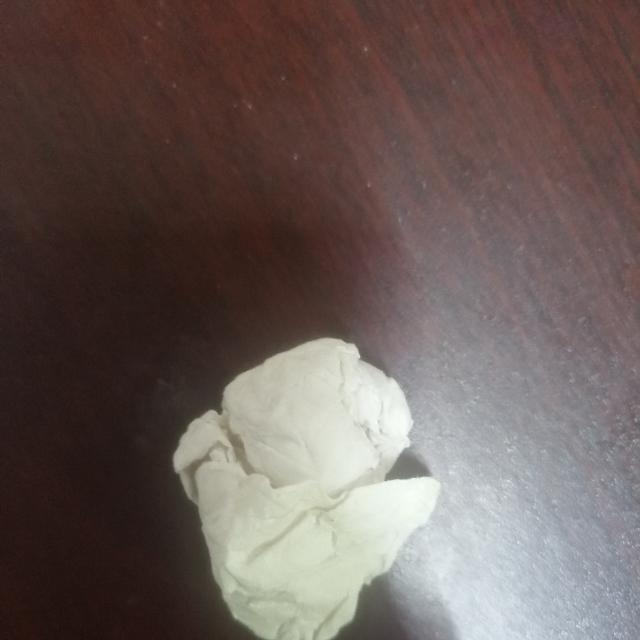kitchen paper: (154, 333, 453, 640)
